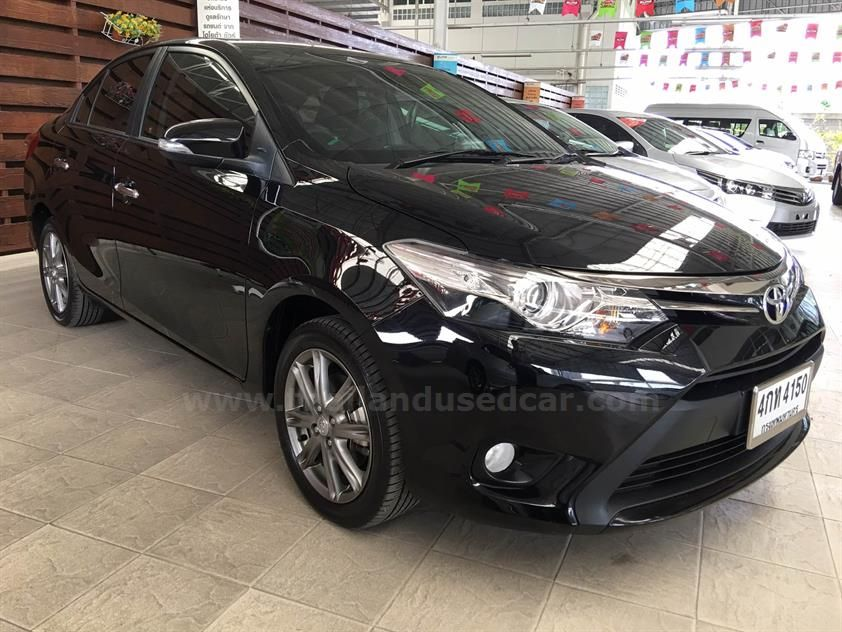sedan: (21, 35, 829, 542)
